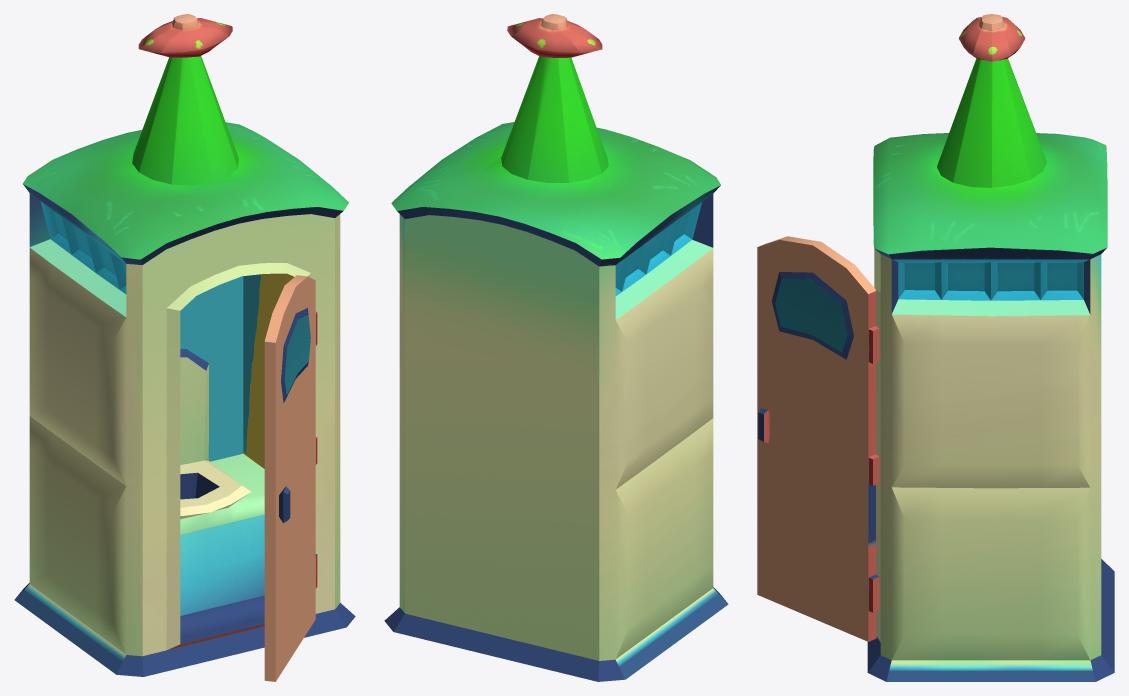
File: MODEL_PortaPotty.fbx
The picture shows the model from 3 angles, left to right: view 1: azimuth 30°, elevation 25°; view 2: azimuth 150°, elevation 25°; view 3: azimuth 270°, elevation 25°; orthographic projection. The views are drawn at different scales.
Visible parts, largest first — view 1: potty_base, potty_door; view 2: potty_base; view 3: potty_base, potty_door.
Boxes of the visible parts, x1,y1,x2,y2 form: potty_base: (14,14,355,676); potty_door: (264,275,317,681); potty_base: (384,14,728,681); potty_base: (867,14,1114,681); potty_door: (757,236,879,641).
Size of the model in its own units: 16.46 by 38.85 by 20.73.
1 material, 1 textured.
